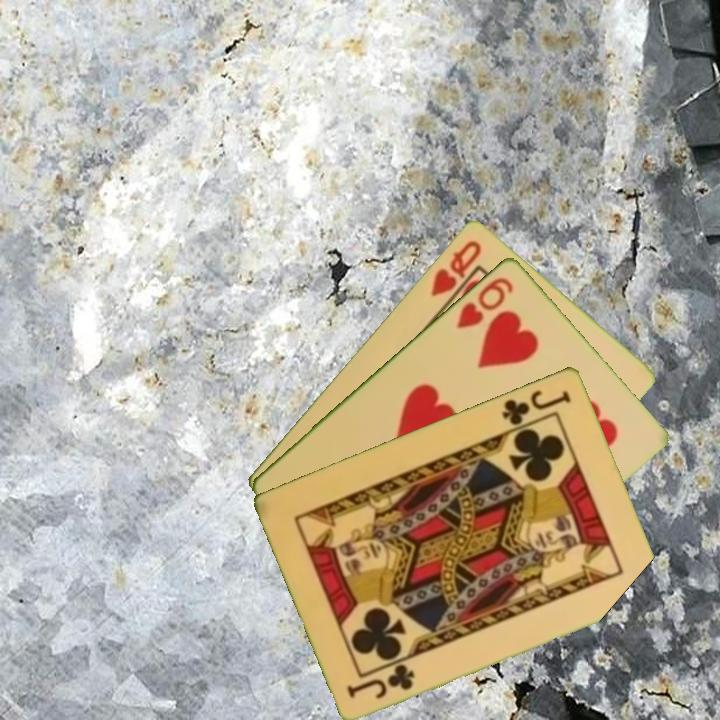6h: (452, 273, 516, 331)
Jc: (498, 386, 574, 428), (343, 660, 418, 702)
Qh: (427, 236, 485, 299)
